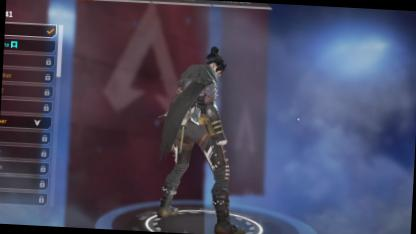Target: (168, 42, 228, 186)
